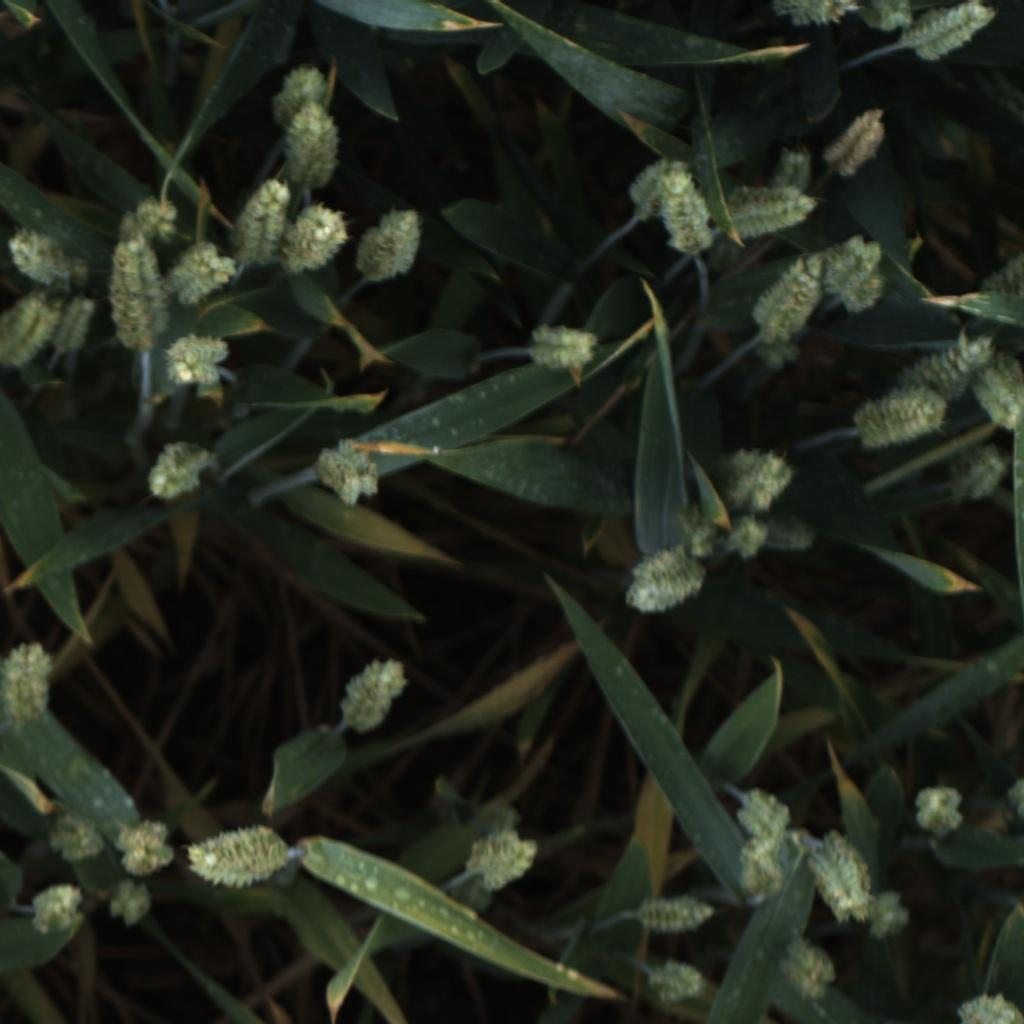0-0: (184, 818, 297, 893), (102, 233, 169, 357), (225, 172, 300, 278), (745, 247, 822, 346), (845, 380, 951, 451), (101, 180, 192, 262), (614, 541, 707, 618), (803, 828, 878, 923), (348, 201, 430, 286), (819, 105, 897, 194), (332, 652, 411, 736), (710, 442, 798, 517), (280, 97, 346, 196), (3, 221, 90, 295), (721, 835, 797, 915), (653, 163, 715, 261), (851, 880, 926, 960), (462, 823, 544, 896), (311, 437, 393, 510), (825, 229, 897, 312), (139, 434, 217, 509), (903, 3, 1003, 61), (168, 235, 245, 310), (729, 175, 818, 239), (281, 200, 354, 278), (911, 331, 995, 398), (0, 636, 59, 730), (524, 312, 604, 378), (943, 435, 1011, 510), (708, 507, 783, 575), (108, 813, 184, 880), (162, 327, 234, 397), (45, 287, 108, 365), (0, 295, 62, 374), (633, 885, 721, 940), (777, 933, 843, 1006), (270, 61, 338, 128), (640, 951, 713, 1011), (722, 786, 797, 842), (909, 779, 972, 845), (623, 154, 684, 218), (975, 353, 1024, 429), (27, 879, 88, 937), (45, 808, 107, 864), (768, 0, 859, 37), (102, 878, 159, 934), (981, 228, 1024, 301), (773, 133, 817, 201), (861, 0, 920, 33)
